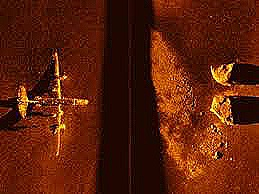aircraft: (13, 48, 91, 156)
